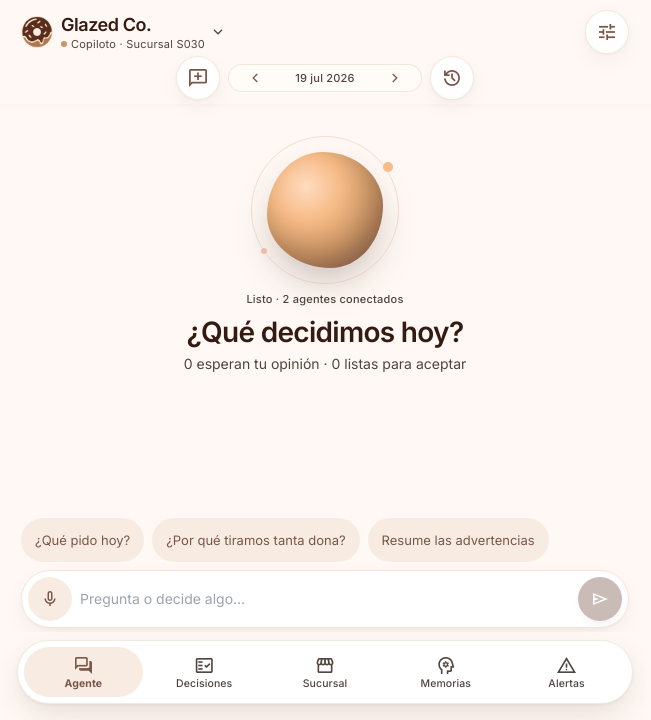
Test: Copiloto (/copiloto) matches Copiloto.dc.html › Decisiones: date, title, subtitle, both sections, counts and the resolved line
What coordinates should you click on to do the following:
click the button "Decisiones"
I would click on:
 (204, 672)
Its box is [145, 647, 264, 697].
(page scrolled)
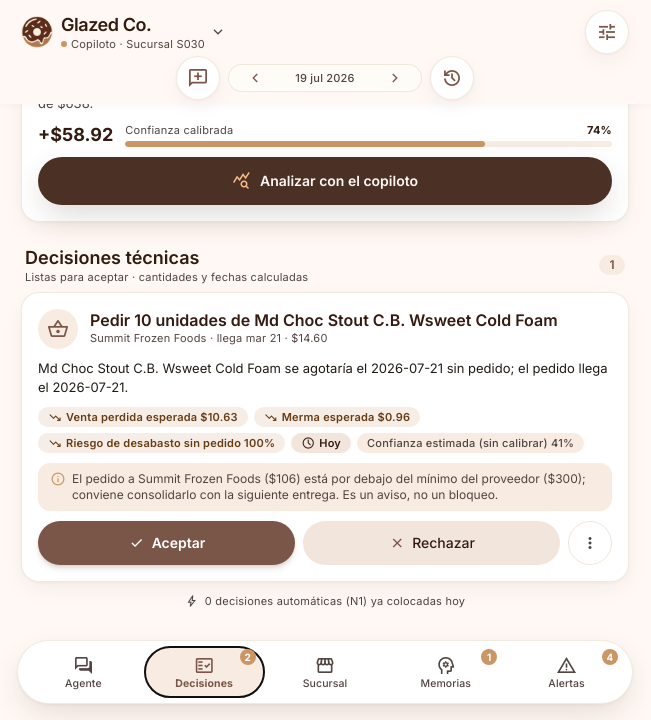
Expected: the text "Listas para aceptar · cantidades y fechas calculadas" is shown, [25, 270, 308, 284]
Expected: the text "0 decisiones automáticas (N1) ya colocadas hoy" is shown, [185, 593, 465, 609]
